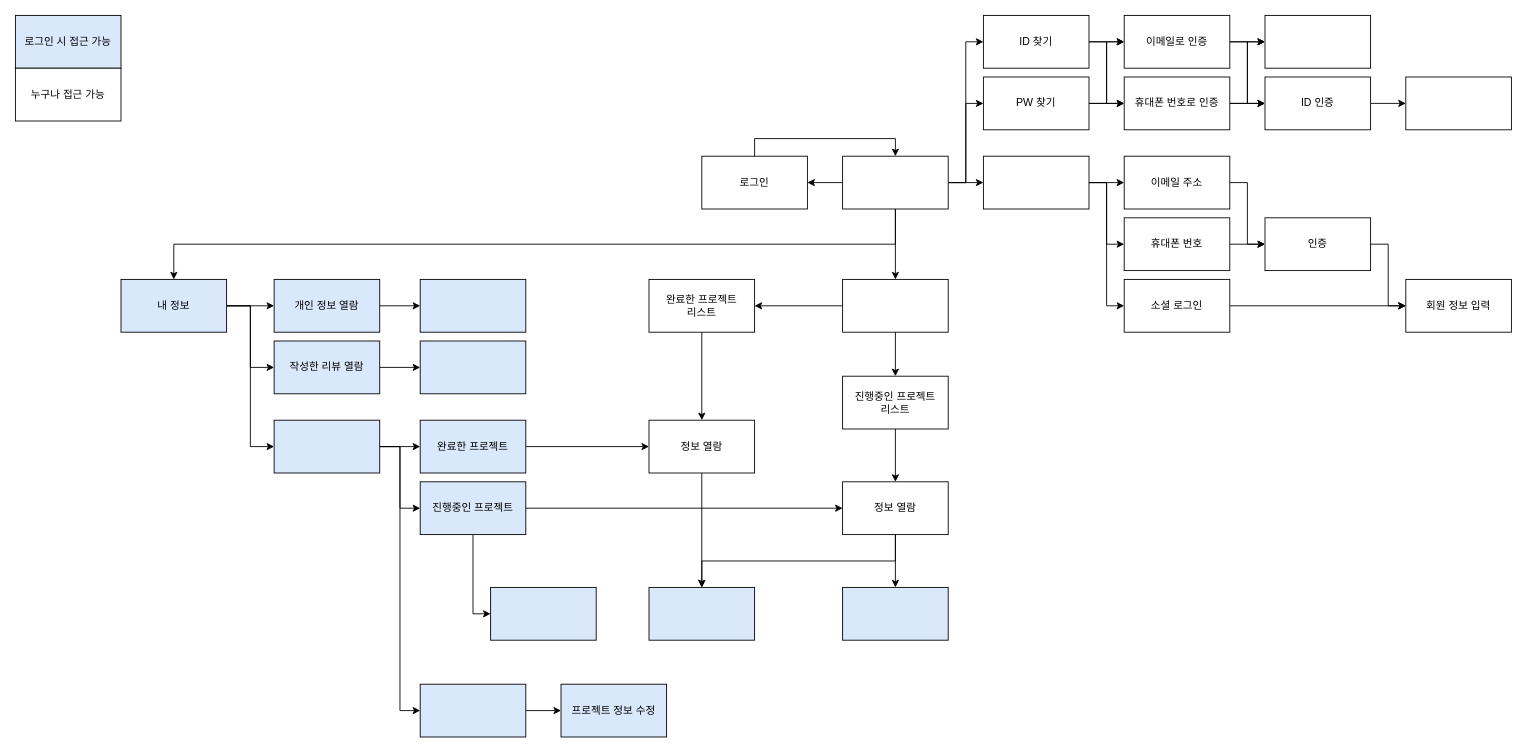
This 1527x752 diagram has some shape labels left out. The shapes that lost their labels are listed below. From the top down, each one's centre as x and y in pixels, then its label:
At (1317,41): "가입한 ID 보여주기".
At (1458,103): "비밀번호 재설정".
At (895,182): "메인화면".
At (1036,182): "회원 가입".
At (472,305): "정보 수정".
At (895,305): "프로젝트 게시판".
At (472,367): "수정 및 삭제".
At (326,446): "참여한 프로젝트 열람".
At (543,613): "탈퇴".
At (701,613): "별점 주기".
At (895,613): "참여 신청".
At (472,710): "생성한 프로젝트".
